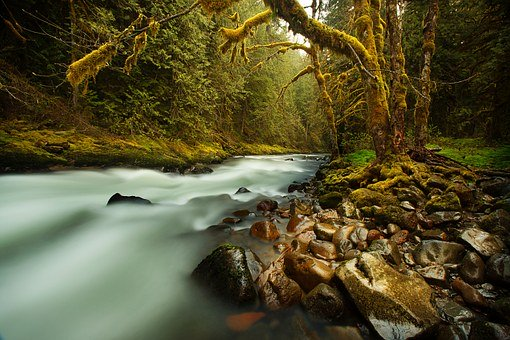forest: (9, 4, 505, 154)
stone: (235, 171, 510, 338)
